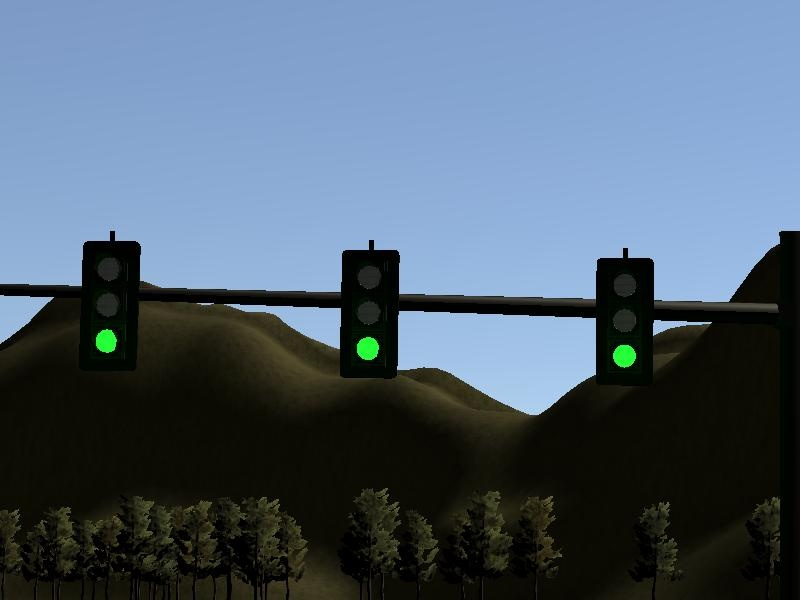GREEN: (338, 245, 403, 384), (78, 237, 144, 372), (592, 256, 657, 390)
